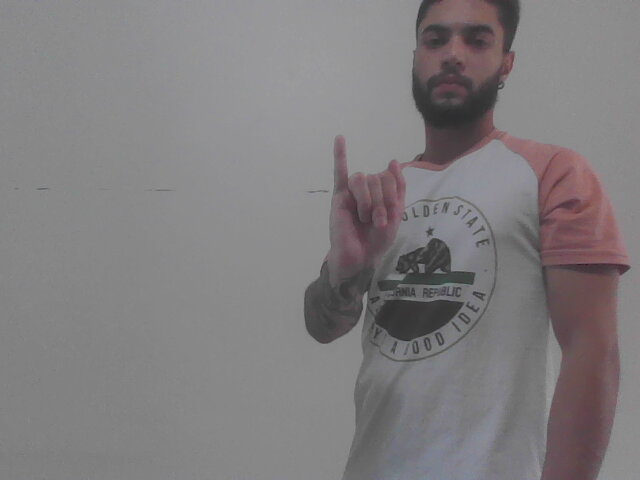i: (323, 128, 412, 277)
